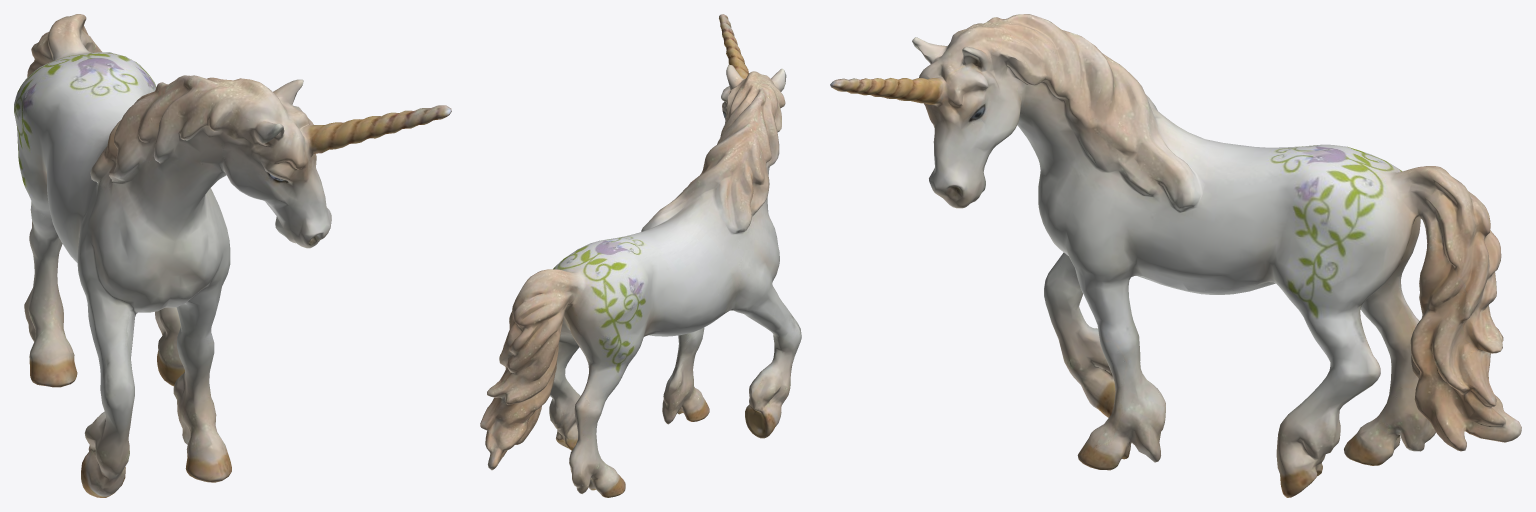
File: unicorn-hq.glb
3 views of the same model, side by side, from view 1: azimuth 30°, elevation 25°; view 2: azimuth 150°, elevation 25°; view 3: azimuth 270°, elevation 25° (orthographic). The views are drawn at different scales.
Visible parts, largest first — view 1: Schleich_S_Bayala_Unicorn_70432; view 2: Schleich_S_Bayala_Unicorn_70432; view 3: Schleich_S_Bayala_Unicorn_70432.
Part boxes in pixels (x1,y1,x2,y2): Schleich_S_Bayala_Unicorn_70432: (14, 14, 451, 497); Schleich_S_Bayala_Unicorn_70432: (480, 14, 801, 497); Schleich_S_Bayala_Unicorn_70432: (830, 14, 1521, 497).
Size of the model in its own units: 0.0547 by 0.1016 by 0.148.
1 material, 1 textured.
